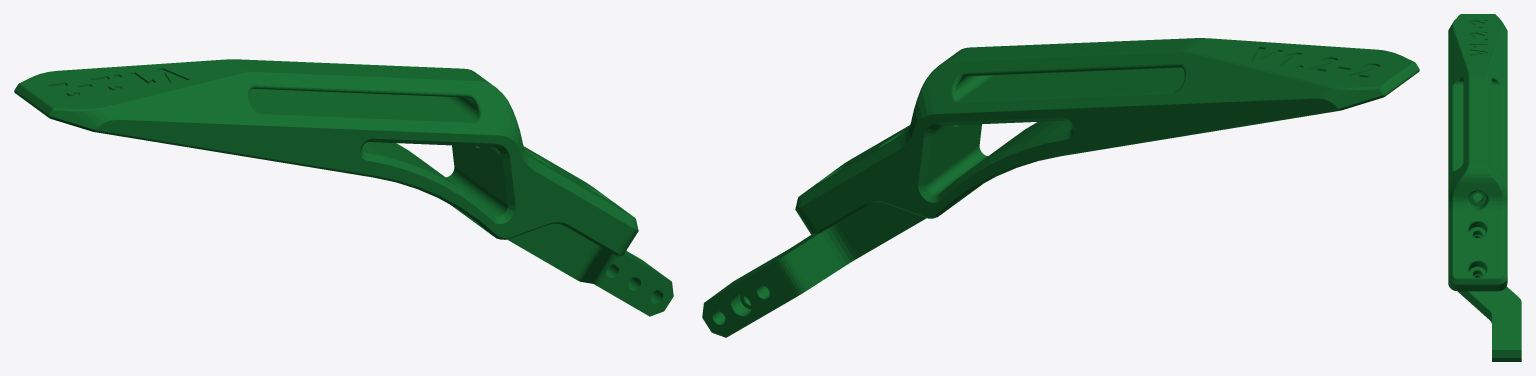
Rendered from L2__green.glb.
The picture shows the model from 3 angles, left to right: view 1: azimuth 30°, elevation 25°; view 2: azimuth 150°, elevation 25°; view 3: azimuth 270°, elevation 25°; orthographic projection. The views are drawn at different scales.
Visible parts, largest first — view 1: L2.STL; view 2: L2.STL; view 3: L2.STL.
Boxes of the visible parts, x1,y1,x2,y2 form: L2.STL: [14, 59, 673, 316]; L2.STL: [702, 38, 1419, 337]; L2.STL: [1448, 14, 1521, 361].
Bounding box in the file's own units: 0.128 × 0.0716 × 0.0248.
1 material, 1 textured.
